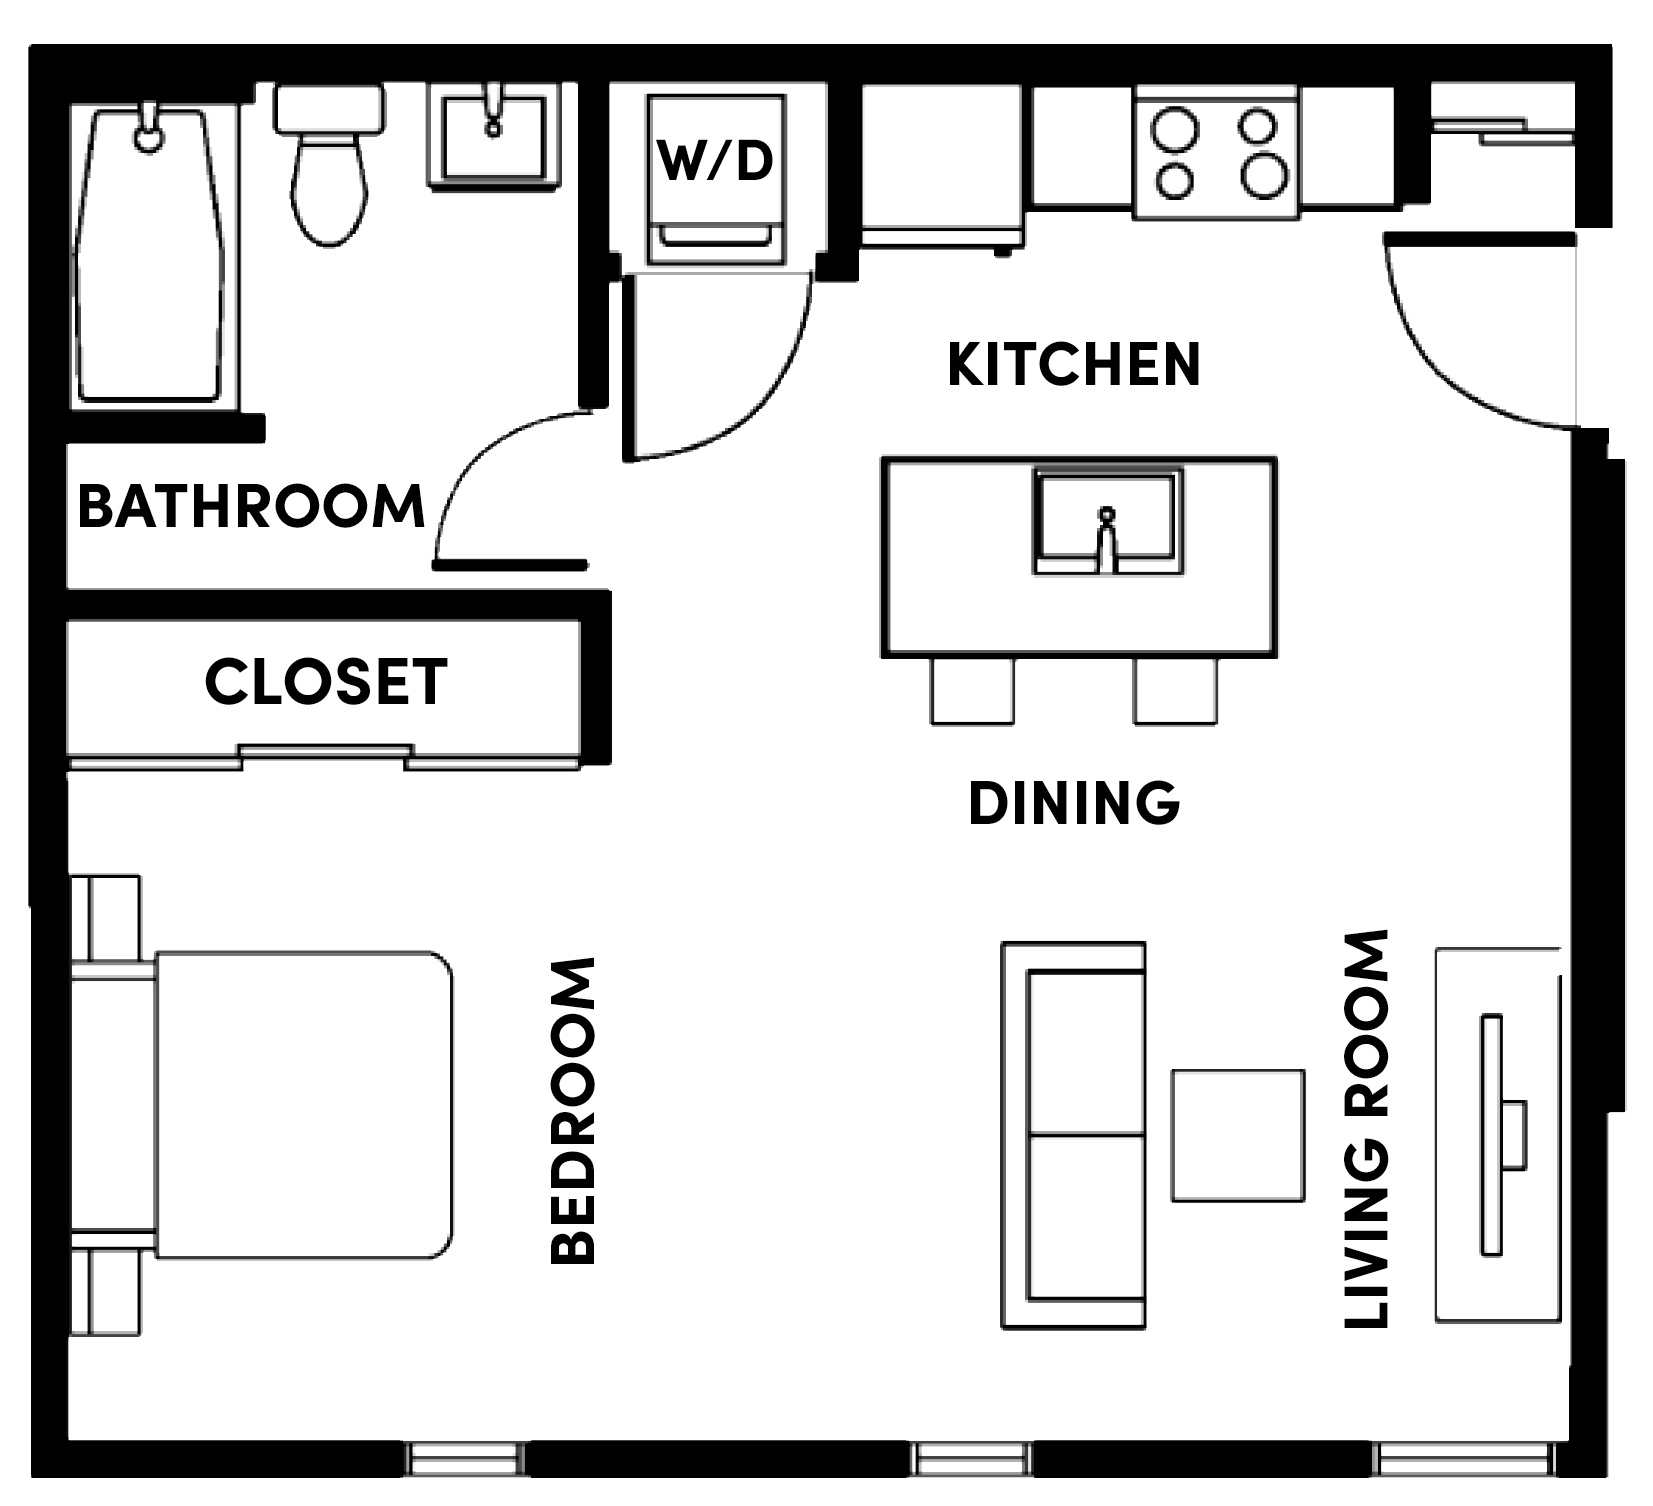door: (1377, 226, 1567, 436), (619, 284, 816, 469), (425, 406, 606, 573), (423, 405, 603, 572)
